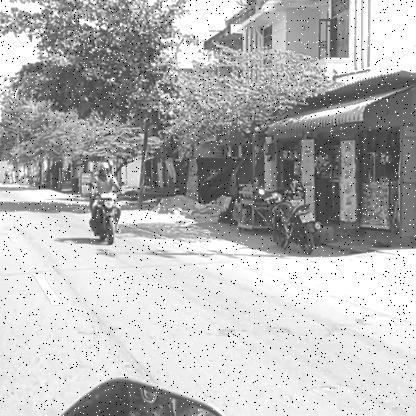motorcycle: (87, 190, 127, 248)
